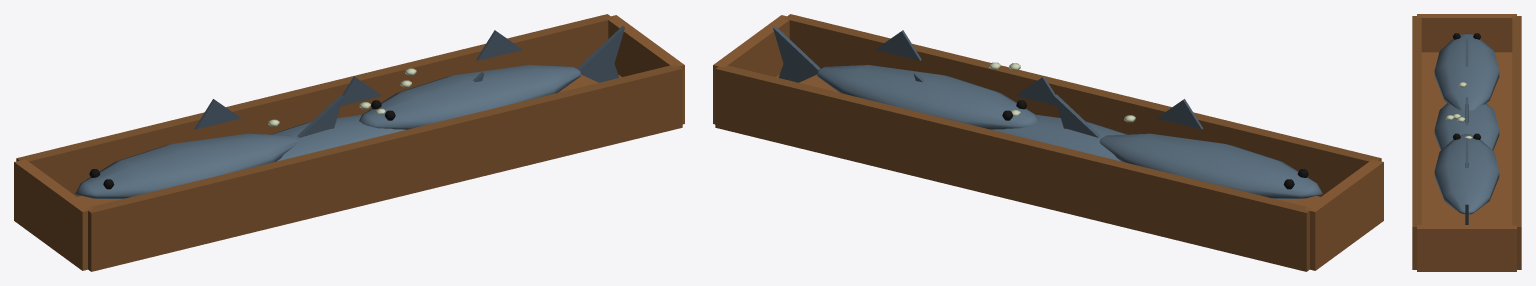
Rendered from Fish_Salmon.fbx.
3 renders of one model, left to right at view 1: azimuth 30°, elevation 25°; view 2: azimuth 150°, elevation 25°; view 3: azimuth 270°, elevation 25°, orthographic. The views are drawn at different scales.
Visible parts, largest first — view 1: Fish_Salmon__Stack, Fish_Salmon; view 2: Fish_Salmon__Stack, Fish_Salmon; view 3: Fish_Salmon__Stack, Fish_Salmon, Fish_Salmon__Rotten.
Boxes of the visible parts, x1,y1,x2,y2 form: Fish_Salmon__Stack: (14, 14, 684, 271); Fish_Salmon: (271, 72, 484, 161); Fish_Salmon__Stack: (713, 14, 1383, 271); Fish_Salmon: (913, 72, 1126, 161); Fish_Salmon__Stack: (1412, 14, 1521, 271); Fish_Salmon: (1434, 97, 1499, 167); Fish_Salmon__Rotten: (1446, 82, 1472, 138).
Size of the model in its own units: 0.428 by 0.0721 by 0.0922.
